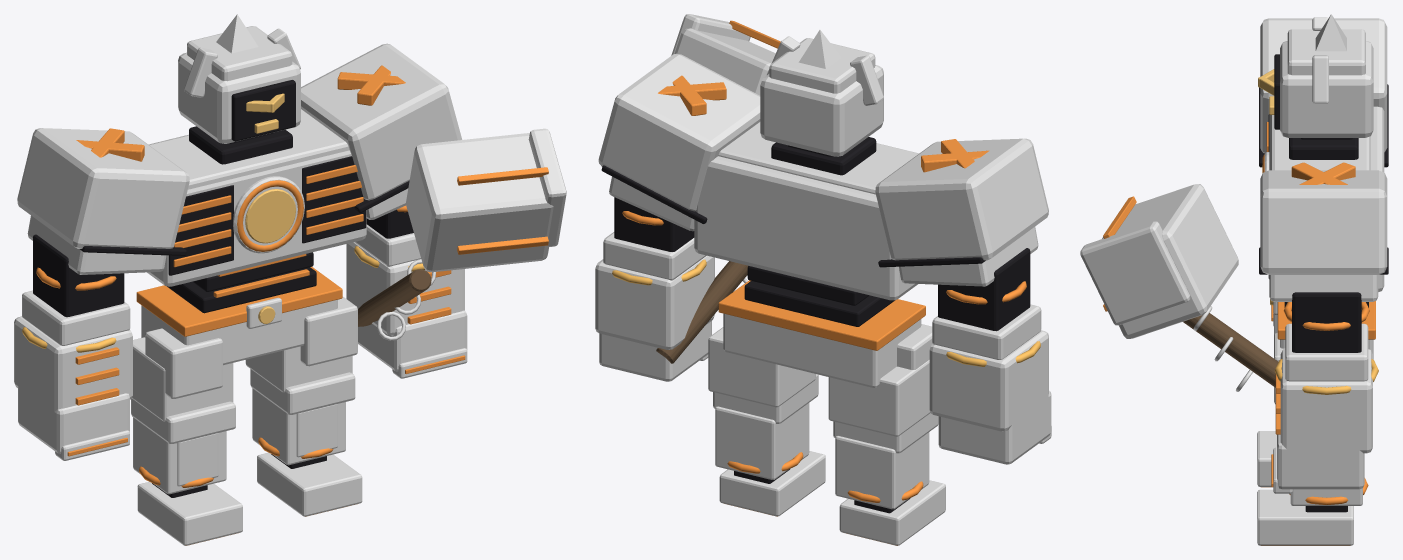
Rendered from IGNIS_Golem.fbx.
3 views of the same model, side by side, from view 1: azimuth 30°, elevation 25°; view 2: azimuth 150°, elevation 25°; view 3: azimuth 270°, elevation 25° (orthographic).
Parts seen in each view (by area): view 1: Gol_OmbroL, Gol_MartC, Gol_OmbroR, Gol_ManoplaL, Gol_PeitoSup, Gol_Peito, Gol_PeL, Gol_PeR, Gol_PunhoL, Gol_Cinto, Gol_Elmo, Gol_Pelve (+41 smaller); view 2: Gol_Peito, Gol_OmbroL, Gol_OmbroR, Gol_ManoplaL, Gol_Elmo, Gol_ManoplaR, Gol_Pelve, Gol_CoxaL, Gol_CanelaL, Gol_CanelaR, Gol_Cinto, Gol_CoxaR (+31 smaller); view 3: Gol_OmbroR, Gol_MartC, Gol_MartF, Gol_ManoplaR, Gol_Elmo, Gol_PeR, Gol_OmbroL, Gol_BracoR, Gol_PunhoR, Gol_CotovR, Gol_ElmoT, Gol_OmbroBR (+16 smaller).
Boxes of the visible parts, left/top/right/bottom form: Gol_OmbroL: left=17, top=128, right=189, bottom=248; Gol_MartC: left=405, top=133, right=553, bottom=272; Gol_OmbroR: left=301, top=43, right=462, bottom=200; Gol_ManoplaL: left=14, top=316, right=132, bottom=412; Gol_PeitoSup: left=149, top=109, right=349, bottom=189; Gol_Peito: left=147, top=134, right=366, bottom=286; Gol_PeL: left=137, top=481, right=242, bottom=545; Gol_PeR: left=257, top=452, right=362, bottom=516; Gol_PunhoL: left=18, top=386, right=129, bottom=453; Gol_Cinto: left=136, top=266, right=342, bottom=336; Gol_Elmo: left=178, top=52, right=300, bottom=143; Gol_Pelve: left=141, top=299, right=337, bottom=365; Gol_Peito: left=694, top=156, right=917, bottom=300; Gol_OmbroL: left=875, top=138, right=1048, bottom=260; Gol_OmbroR: left=598, top=53, right=760, bottom=211; Gol_ManoplaL: left=929, top=330, right=1048, bottom=431; Gol_Elmo: left=760, top=65, right=883, bottom=156; Gol_ManoplaR: left=595, top=255, right=714, bottom=349; Gol_Pelve: left=723, top=313, right=921, bottom=387; Gol_CoxaL: left=828, top=360, right=930, bottom=436; Gol_CanelaL: left=835, top=432, right=929, bottom=509; Gol_CanelaR: left=715, top=403, right=809, bottom=479; Gol_Cinto: left=718, top=280, right=925, bottom=350; Gol_CoxaR: left=708, top=327, right=815, bottom=407; Gol_OmbroR: left=1260, top=170, right=1387, bottom=274; Gol_MartC: left=1102, top=184, right=1238, bottom=338; Gol_MartF: left=1080, top=221, right=1190, bottom=325; Gol_ManoplaR: left=1280, top=349, right=1372, bottom=453; Gol_Elmo: left=1280, top=41, right=1373, bottom=137; Gol_PeR: left=1257, top=489, right=1353, bottom=545; Gol_OmbroL: left=1260, top=18, right=1387, bottom=153; Gol_BracoR: left=1292, top=292, right=1361, bottom=352; Gol_PunhoR: left=1277, top=434, right=1364, bottom=489; Gol_CotovR: left=1285, top=323, right=1368, bottom=381; Gol_ElmoT: left=1287, top=29, right=1365, bottom=75; Gol_OmbroBR: left=1269, top=275, right=1378, bottom=301.
Bounding box in the file's own units: 3409 × 3576 × 2042.
